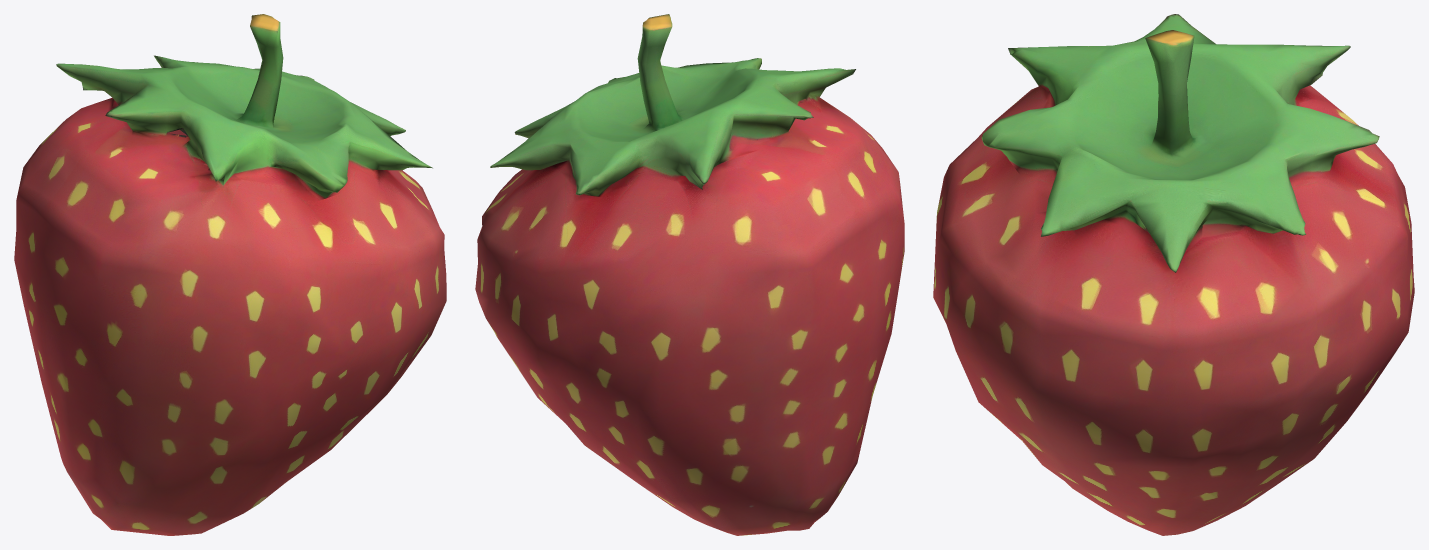
The model's file is fruit_strawberry_m.glb.
3 renders of one model, left to right at view 1: azimuth 30°, elevation 25°; view 2: azimuth 150°, elevation 25°; view 3: azimuth 270°, elevation 25°, orthographic. The views are drawn at different scales.
Size of the model in its own units: 1.63 by 2 by 1.65.
Materials: 1 (1 with a texture image).
